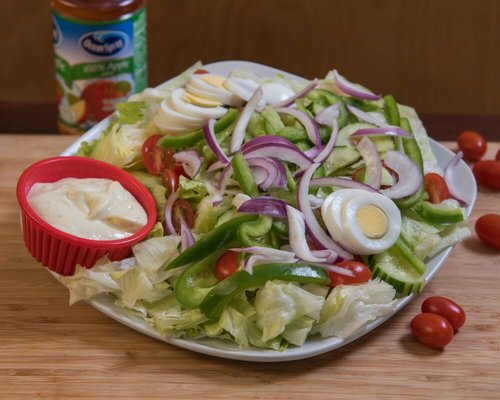sushi: (16, 155, 159, 276)
